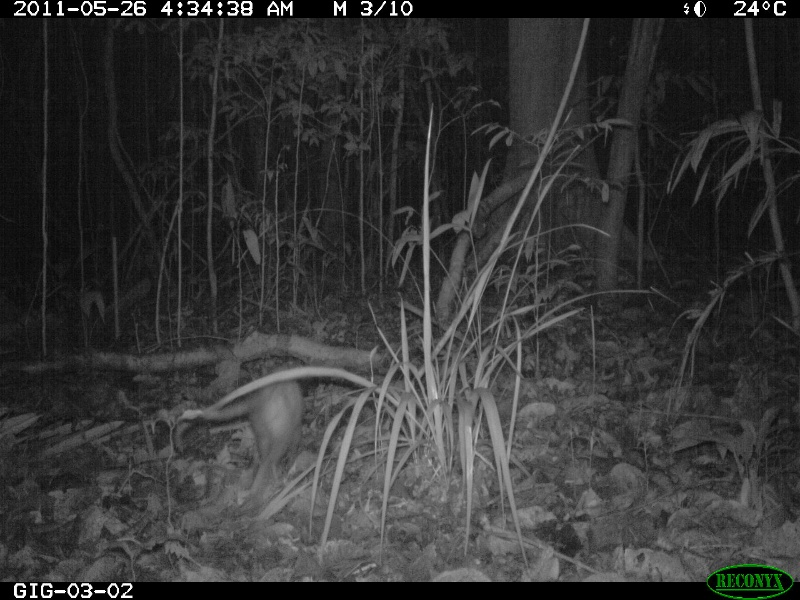opossum: (179, 376, 307, 479)
